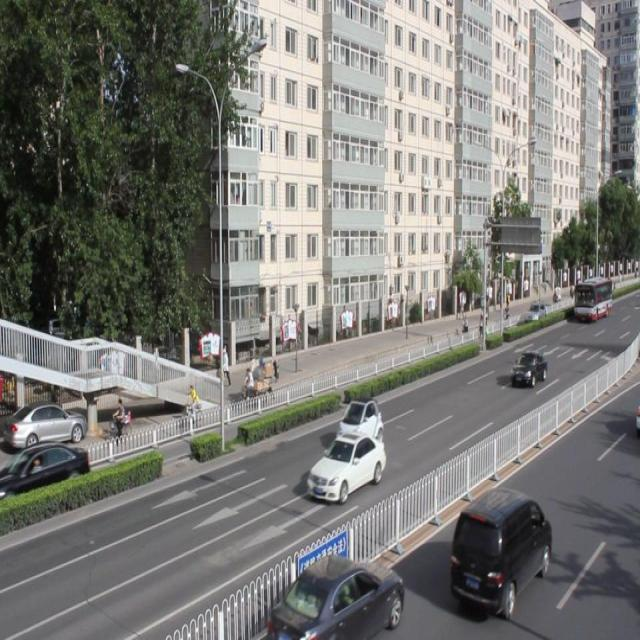car: (450, 484, 550, 612), (268, 550, 402, 640), (1, 439, 89, 512), (306, 431, 386, 502), (334, 396, 383, 448), (509, 348, 546, 388)
